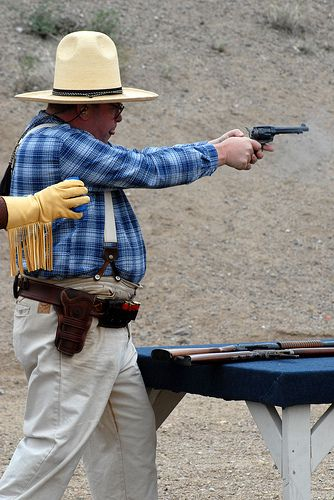gun: (240, 112, 317, 184)
